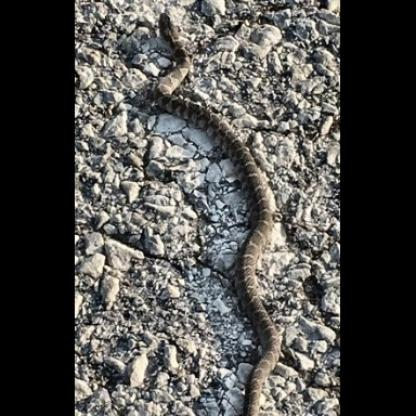Snake: (107, 15, 300, 408)
